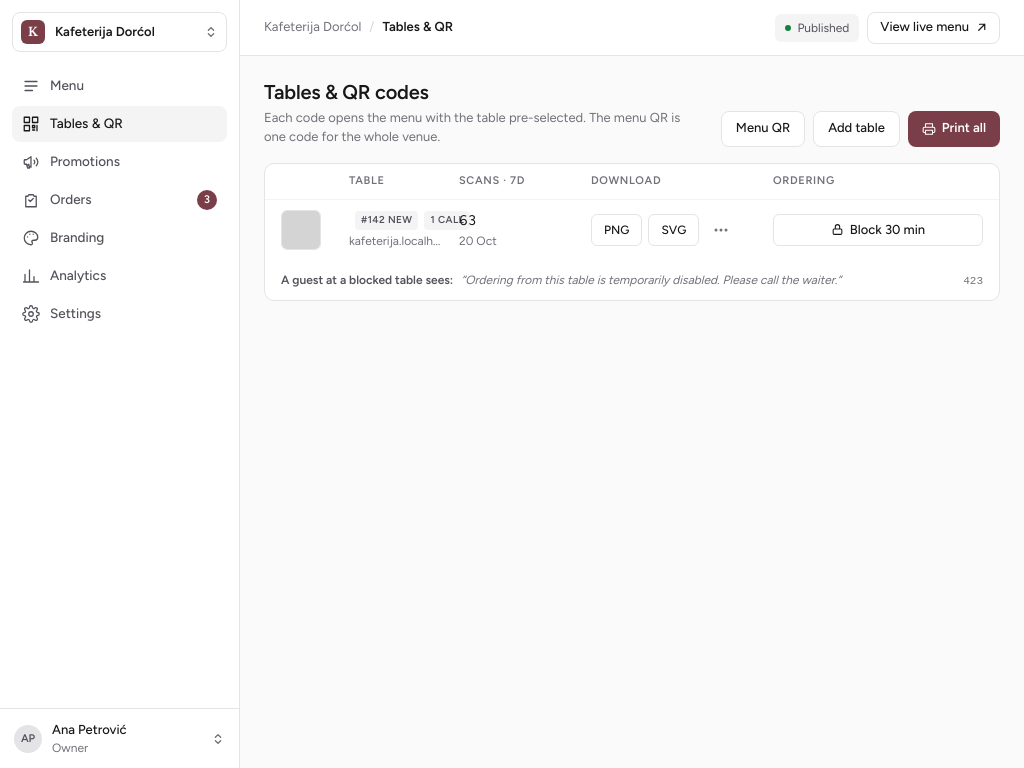
Test: tables → block for 30 minutes › blocks and unblocks a table and shows what the table has open
Expected: the text "#142 new" is shown, [355,211,418,230]
Expected: the text "1 call" is shown, [424,211,470,230]
Click the button "Block 30 min": [878, 230] box [773,214,983,246]
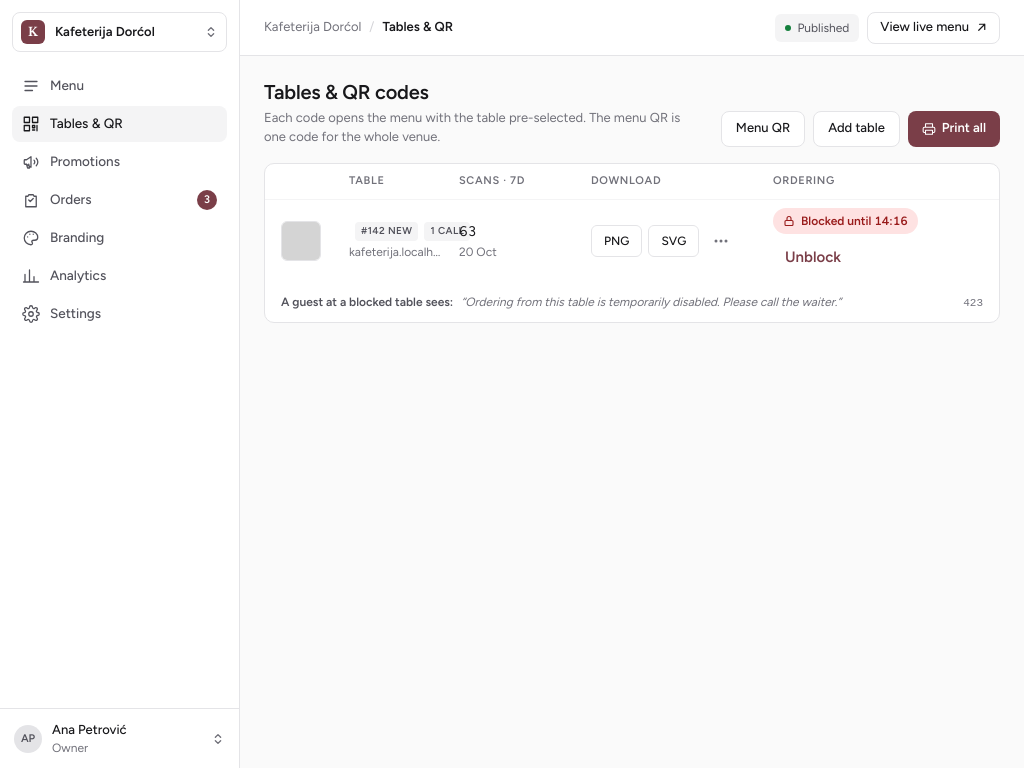
Expected: the text "A guest at a blocked table sees:" is shown, [281,294,453,310]
Result: the text "Blocked until 14:16" is shown at [773,208,918,234]
Click the button "Unblock": [813, 258] box [773,242,853,274]
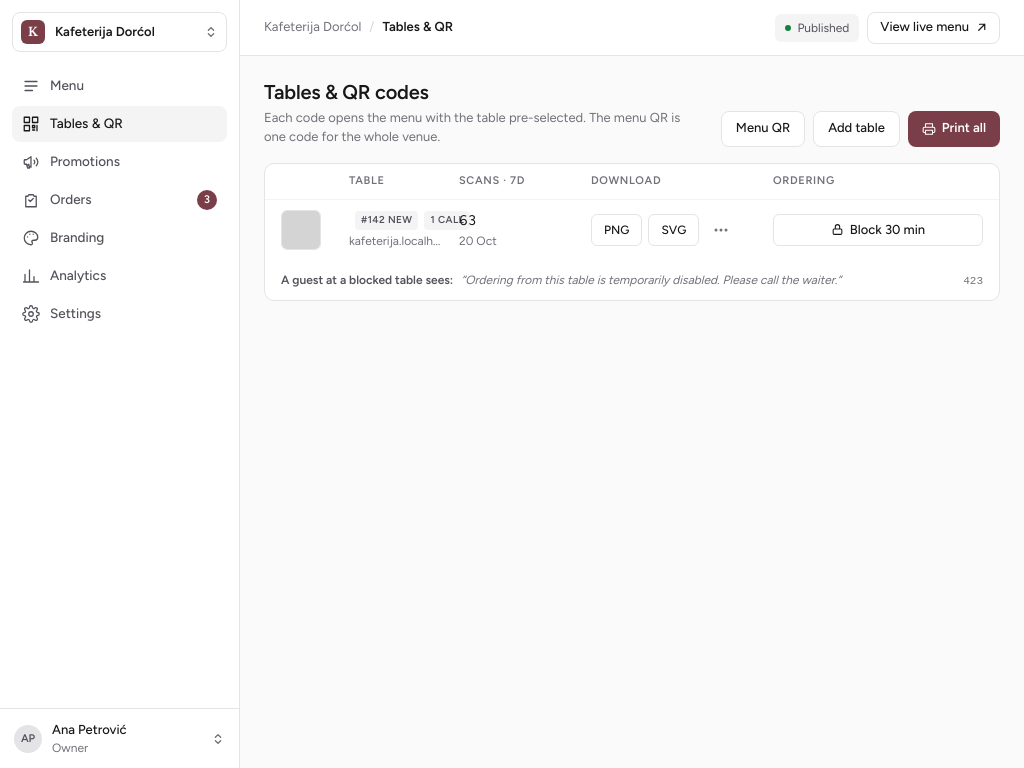
Result: the button "Block 30 min" is shown at [773,214,983,246]
